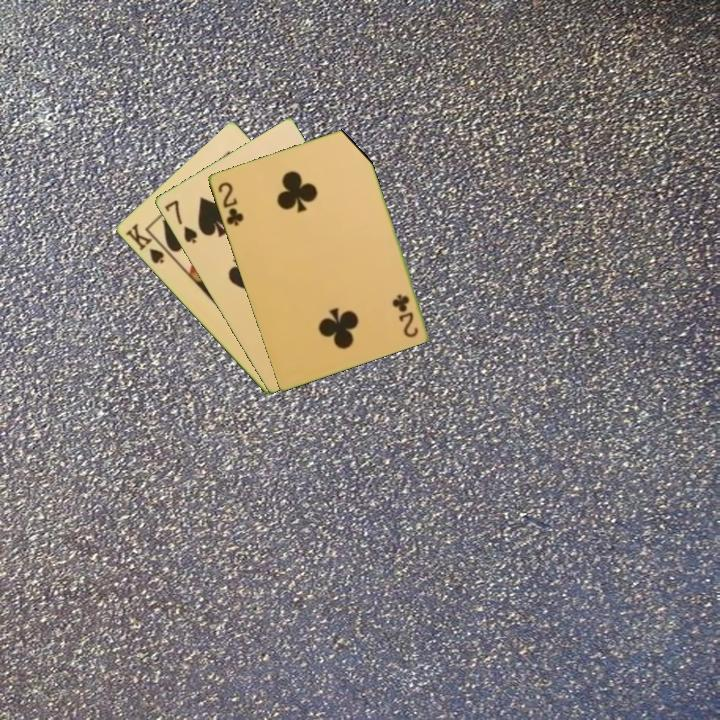2c: (214, 178, 246, 229), (391, 291, 421, 341)
7s: (161, 196, 200, 246)
Ks: (122, 220, 173, 267)
